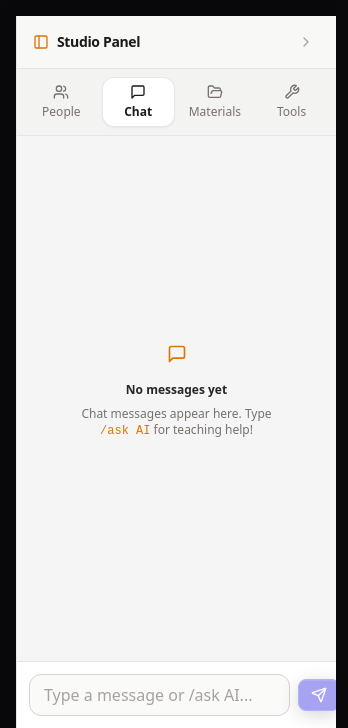
Test: StudioSidePanel Component (Collapsible 4-Tab Teaching Panel) › preserves tab state and form inputs across collapse and expand cycles
Later steps or results of the test are not shown.
(page scrolled)
Type into chat input
Type "Important class note" into the field with test id "chat-input".
click(160, 695); type("Important class note")  # box [29,674,290,716]
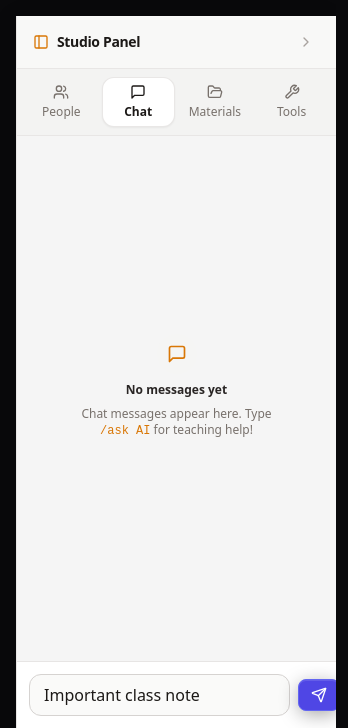
Click the button with test id "collapse-panel-btn".
click(306, 42)  # box [292,28,320,56]
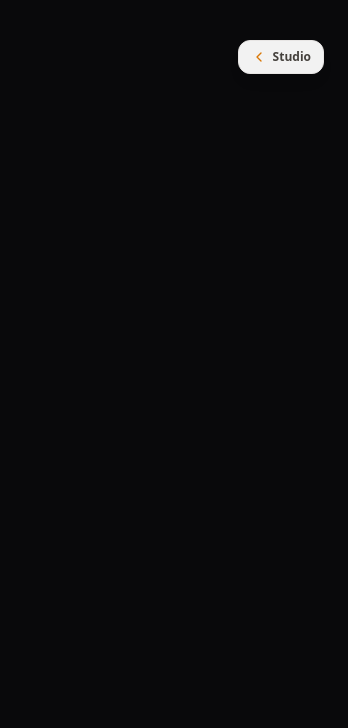
Expected: the button with test id "expand-panel-btn" is shown, [238,40,324,74]
